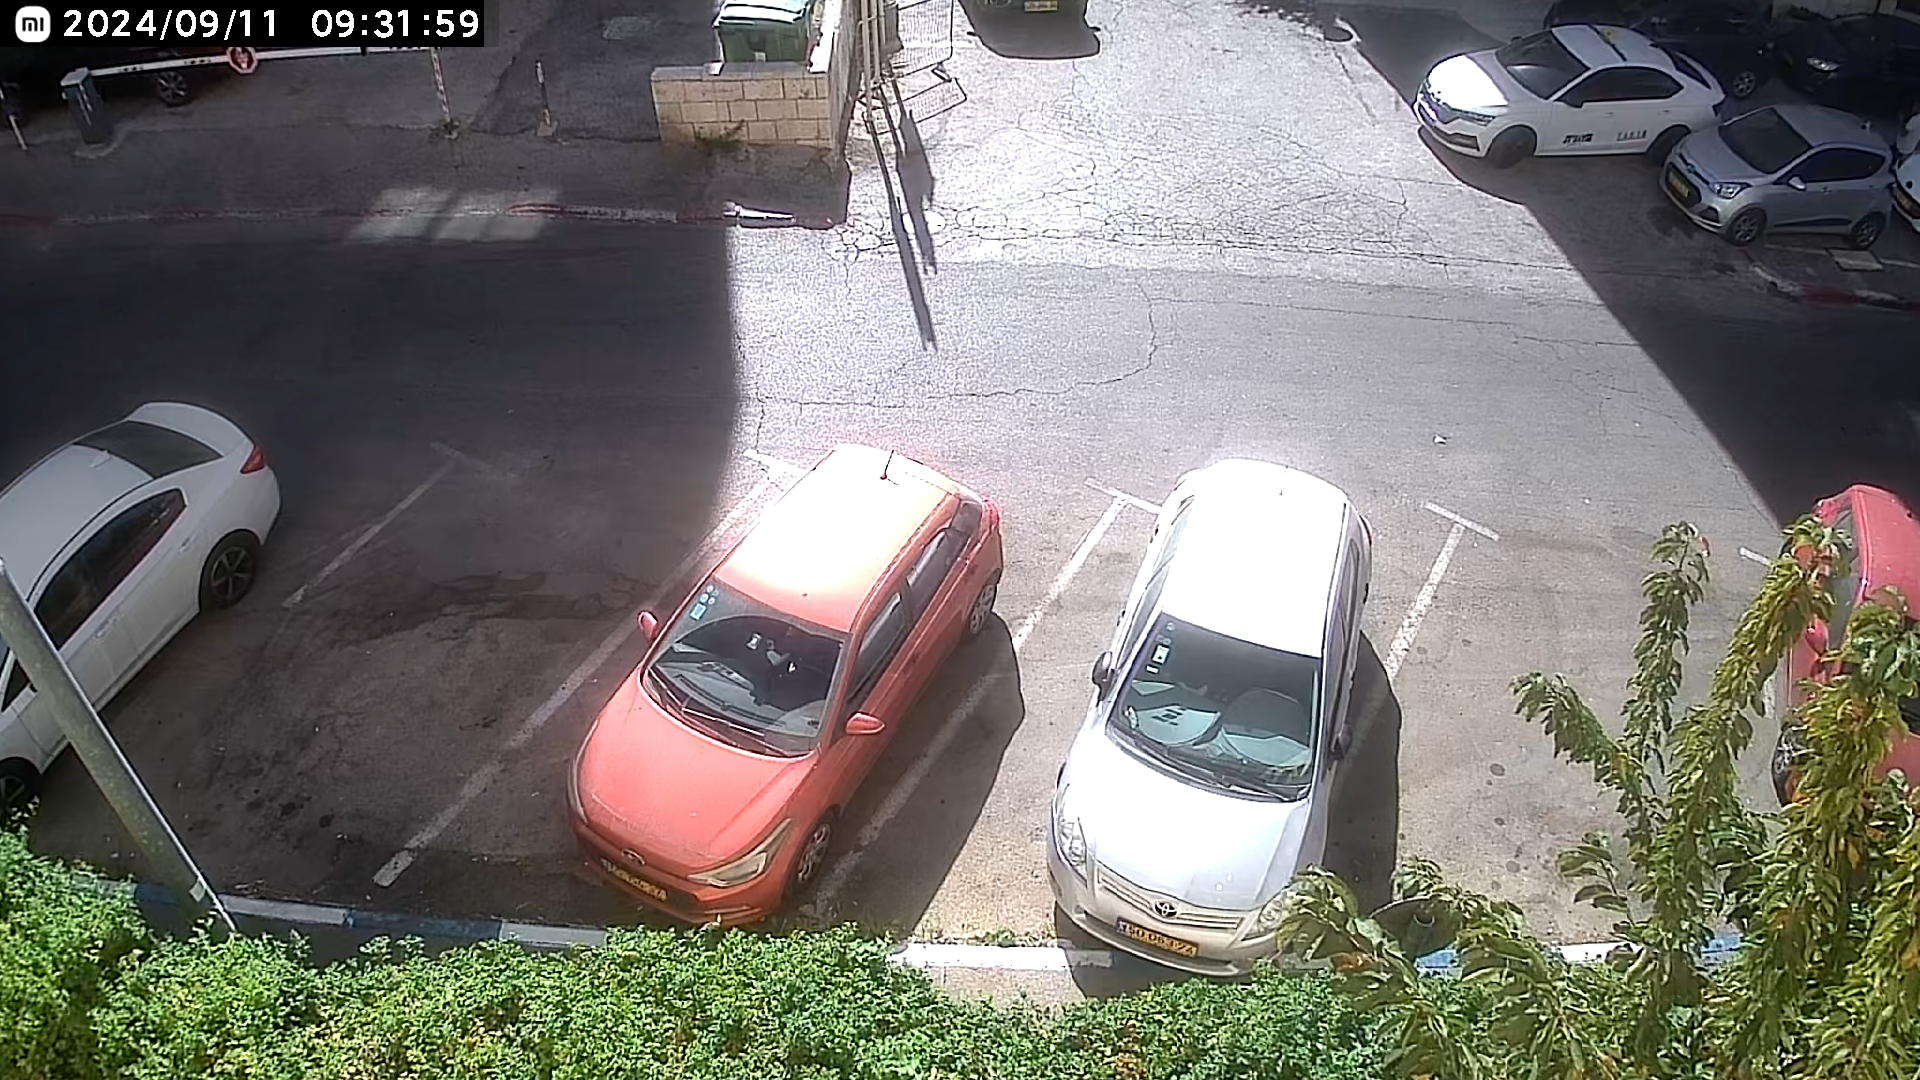empty: (120, 433, 662, 927), (1374, 485, 1785, 955)
